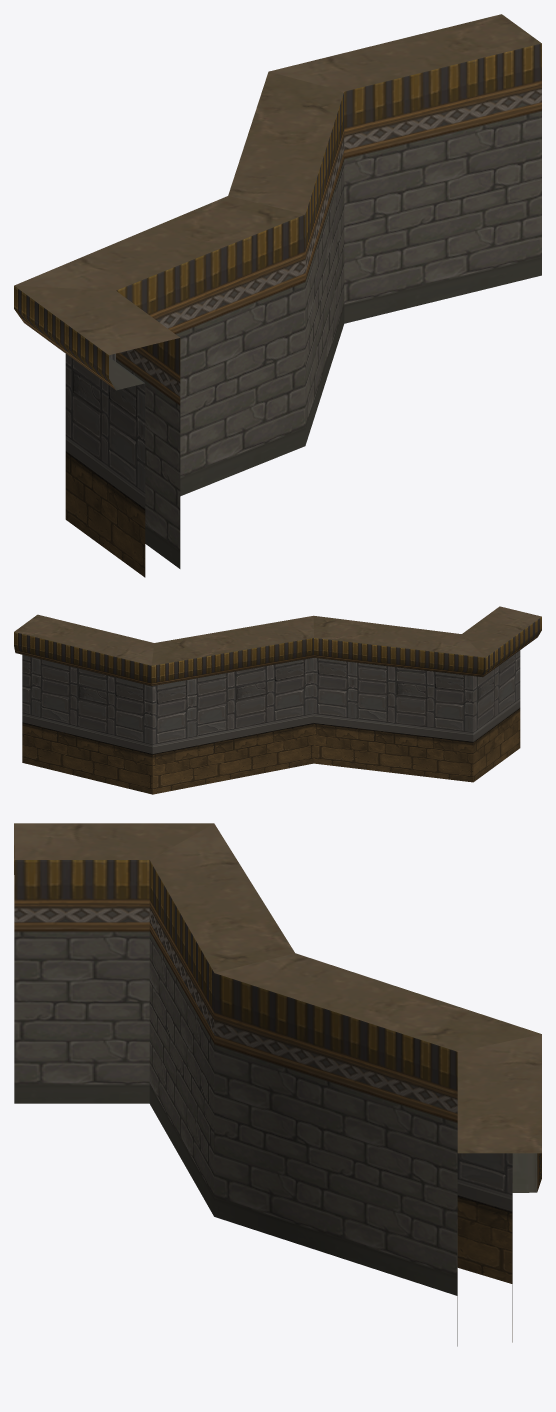
The model's file is Battle06_Wall_014.FBX.
3 renders of one model, top to bottom at view 1: azimuth 30°, elevation 25°; view 2: azimuth 150°, elevation 25°; view 3: azimuth 270°, elevation 25°, orthographic. The views are drawn at different scales.
Parts seen in each view (by area): view 1: Battle06_Wall_014; view 2: Battle06_Wall_014; view 3: Battle06_Wall_014.
Boxes of the visible parts, <box> form: Battle06_Wall_014: <box>14,14,541,577</box>; Battle06_Wall_014: <box>14,606,541,794</box>; Battle06_Wall_014: <box>14,823,541,1346</box>.
Size of the model in its own units: 27.95 by 9.63 by 18.87.
